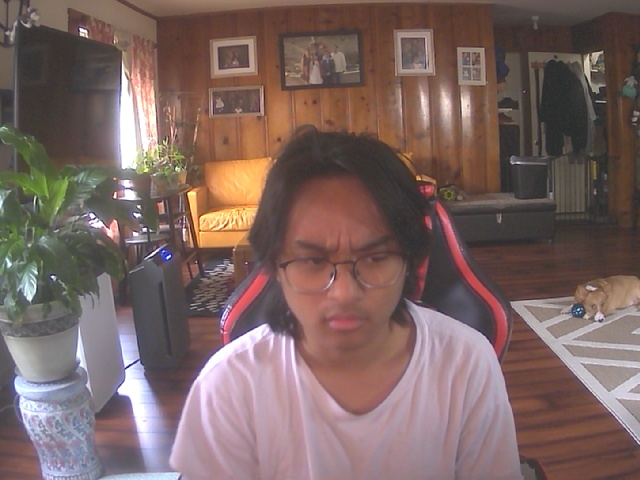anger: (272, 149, 418, 352)
